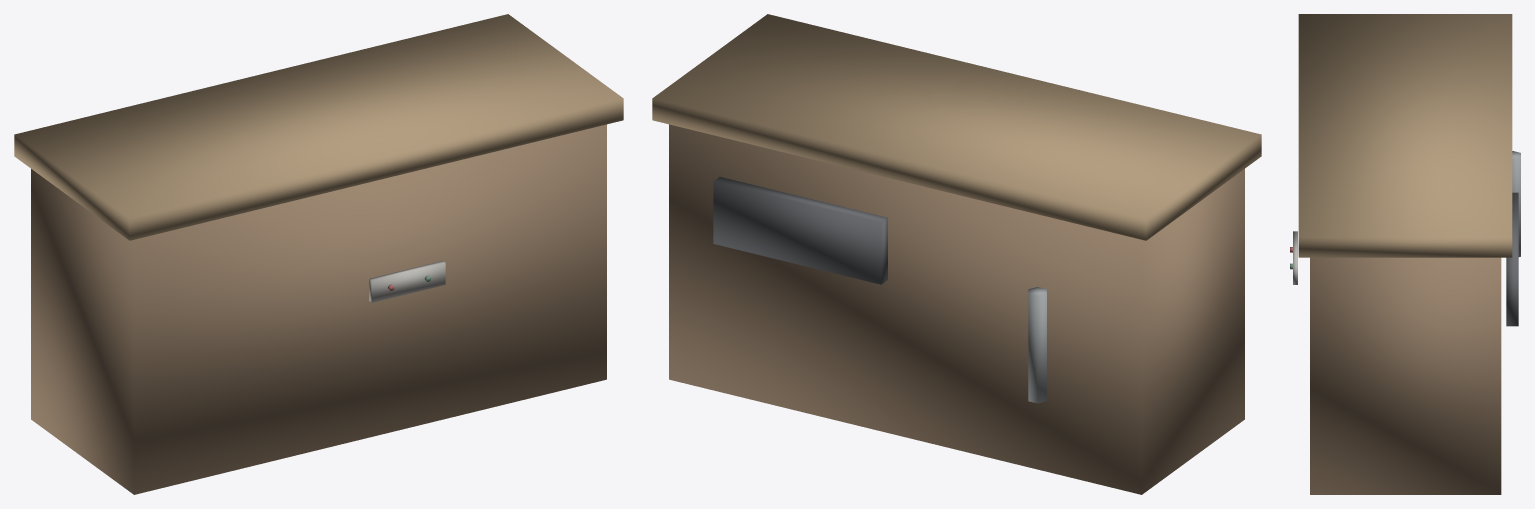
Rendered from bank_teller_counter__service.glb.
3 renders of one model, left to right at view 1: azimuth 30°, elevation 25°; view 2: azimuth 150°, elevation 25°; view 3: azimuth 270°, elevation 25°, orthographic. The views are drawn at different scales.
Visible parts, largest first — view 1: world; view 2: world; view 3: world.
Part boxes in pixels (x1,y1,x2,y2): world: [14, 14, 623, 494]; world: [652, 14, 1261, 494]; world: [1290, 14, 1520, 494].
Size of the model in its own units: 1.88 by 1.03 by 0.8213.
